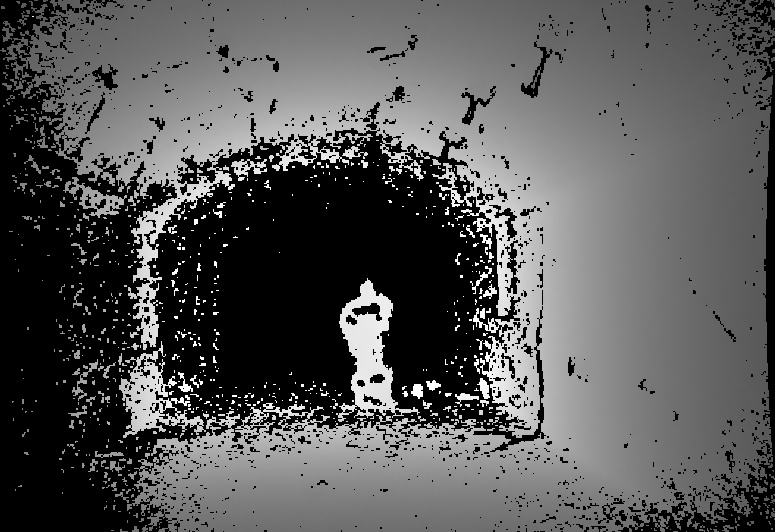person: (337, 277, 398, 412)
